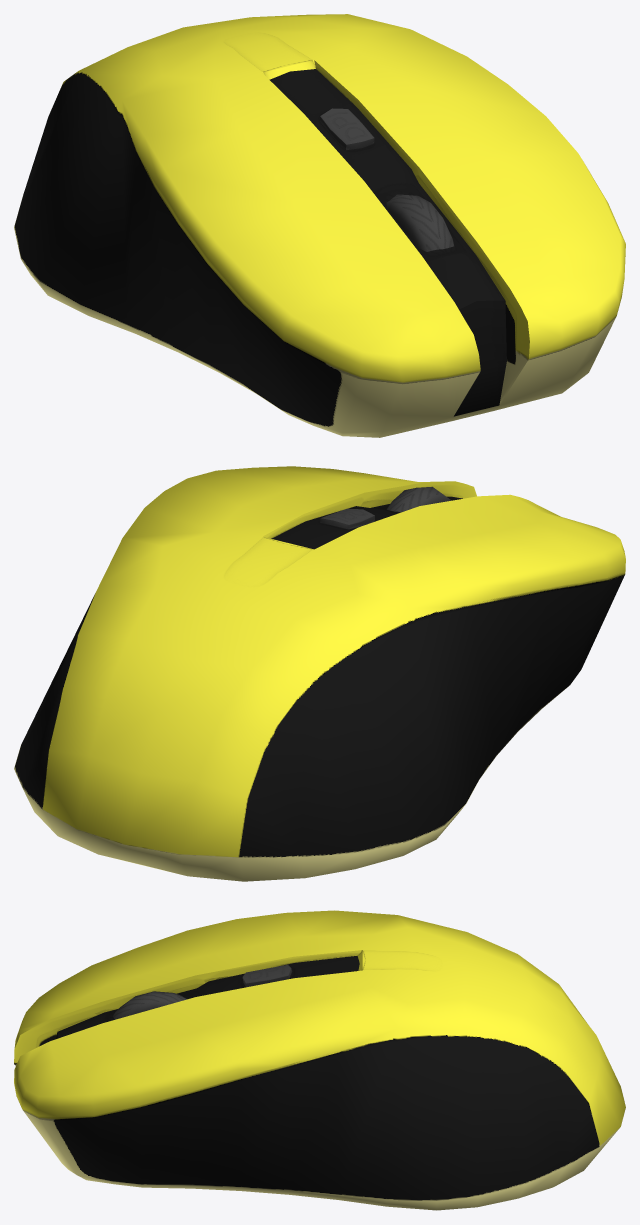
Rendered from maus.FBX.
3 views of the same model, one above another, from view 1: azimuth 30°, elevation 25°; view 2: azimuth 150°, elevation 25°; view 3: azimuth 270°, elevation 25° (orthographic). The views are drawn at different scales.
Parts seen in each view (by area): view 1: maus_low; view 2: maus_low; view 3: maus_low.
Boxes of the visible parts, x1,y1,x2,y2 form: maus_low: (14, 14, 625, 437); maus_low: (14, 466, 625, 881); maus_low: (14, 910, 625, 1210).
Bounding box in the file's own units: 7.4e-05 × 3.77e-05 × 0.00012.
Materials: 1 (1 with a texture image).
